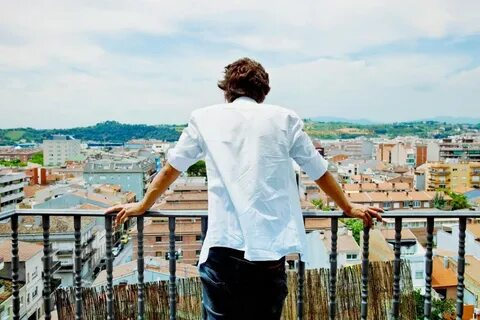awake: (141, 57, 347, 320)
